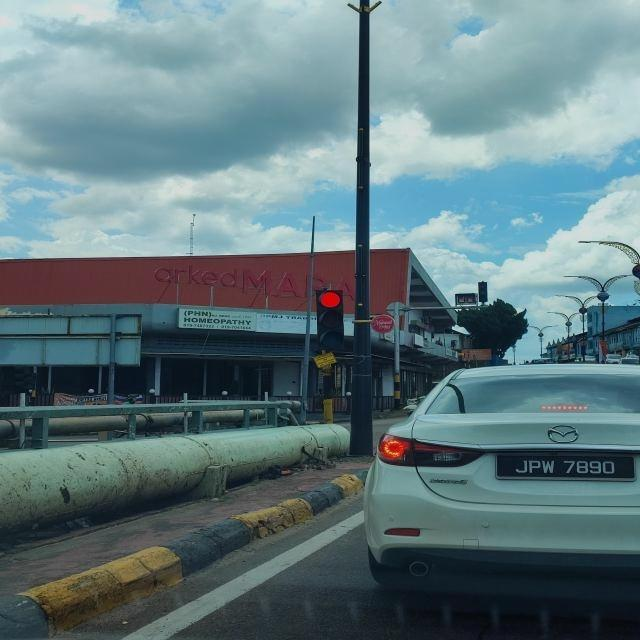Red: (316, 289, 344, 350)
